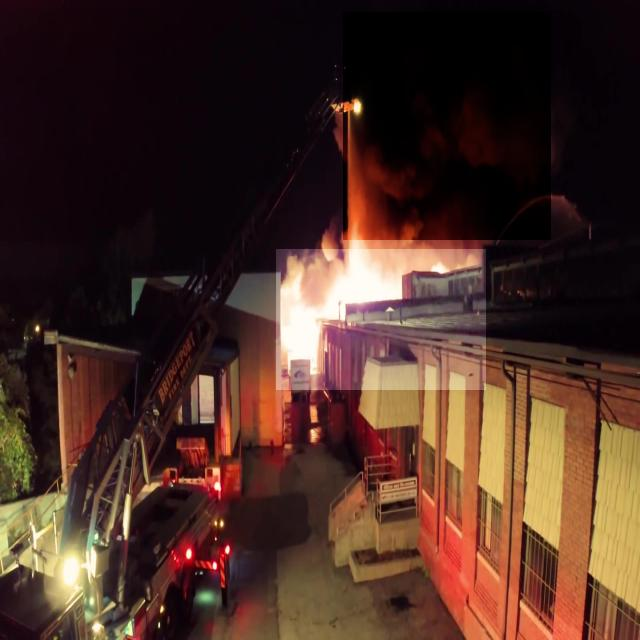Fire: (276, 249, 486, 390)
Smoke: (344, 12, 552, 240)
